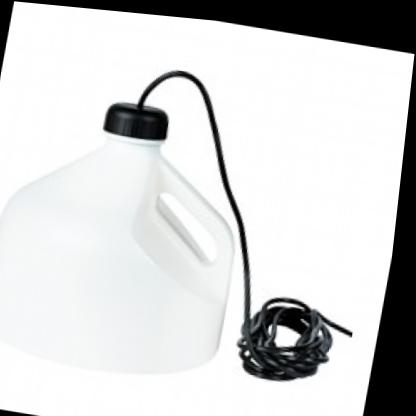Lamp: (0, 21, 313, 414)
